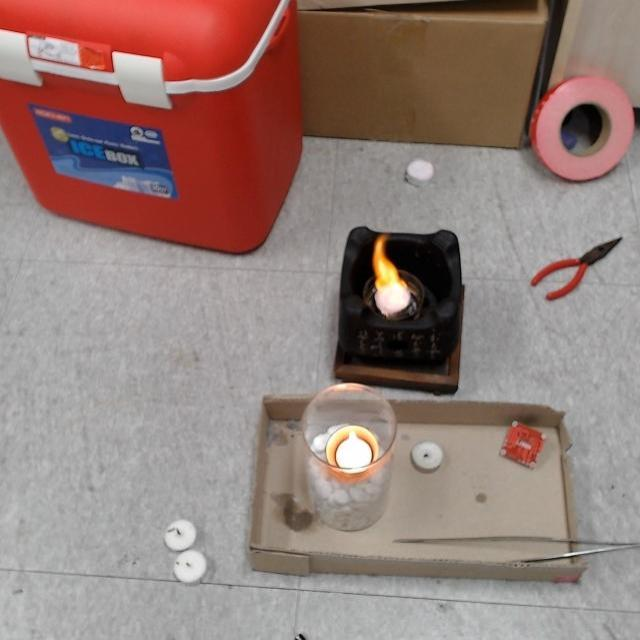Fire: (364, 226, 411, 309), (332, 424, 371, 462)
